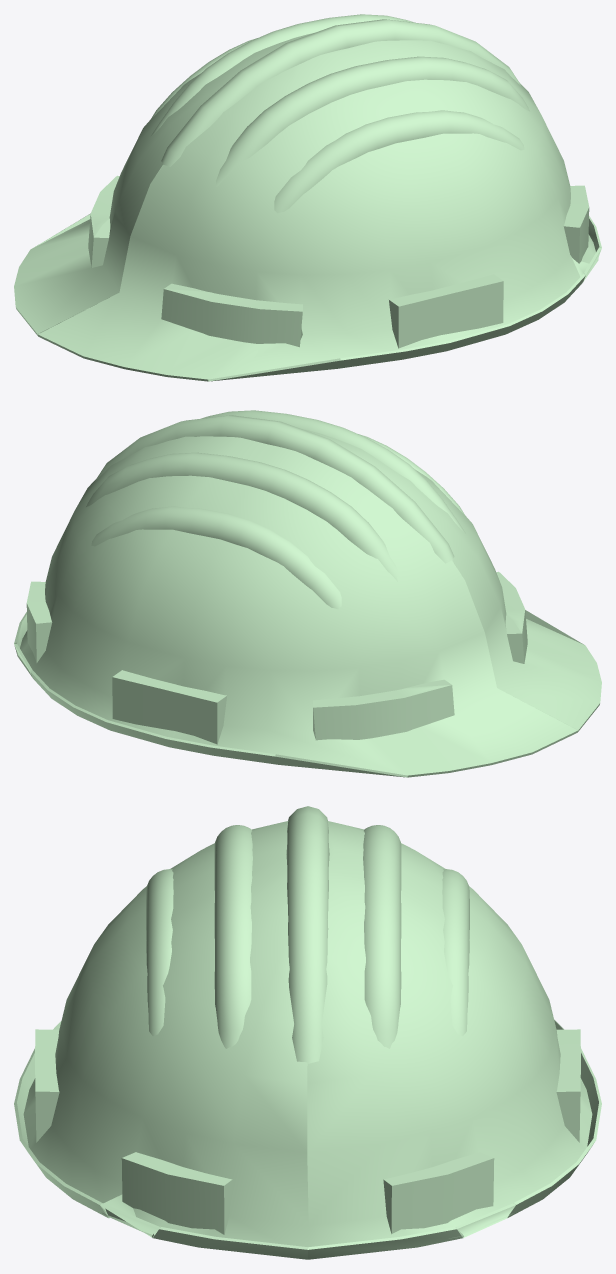
Rendered from helmet.fbx.
3 renders of one model, top to bottom at view 1: azimuth 30°, elevation 25°; view 2: azimuth 150°, elevation 25°; view 3: azimuth 270°, elevation 25°, orthographic. The views are drawn at different scales.
Parts seen in each view (by area): view 1: Circle01; view 2: Circle01; view 3: Circle01.
Part boxes in pixels (x1=…): Circle01: x1=14, y1=14, x2=601, y2=381; Circle01: x1=14, y1=410, x2=601, y2=777; Circle01: x1=14, y1=806, x2=601, y2=1259.
Bounding box in the file's own units: 10000 × 4201 × 7783.
